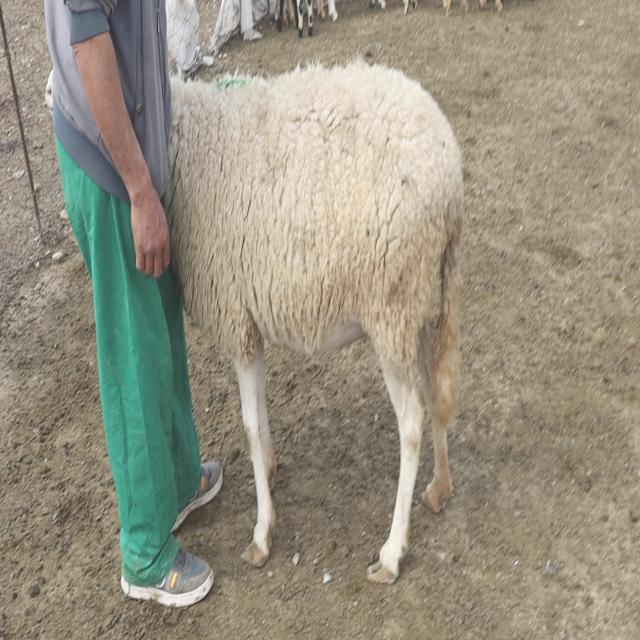Score_4: (164, 61, 463, 583)
